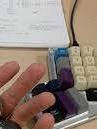ironball: (0, 119, 26, 128)
